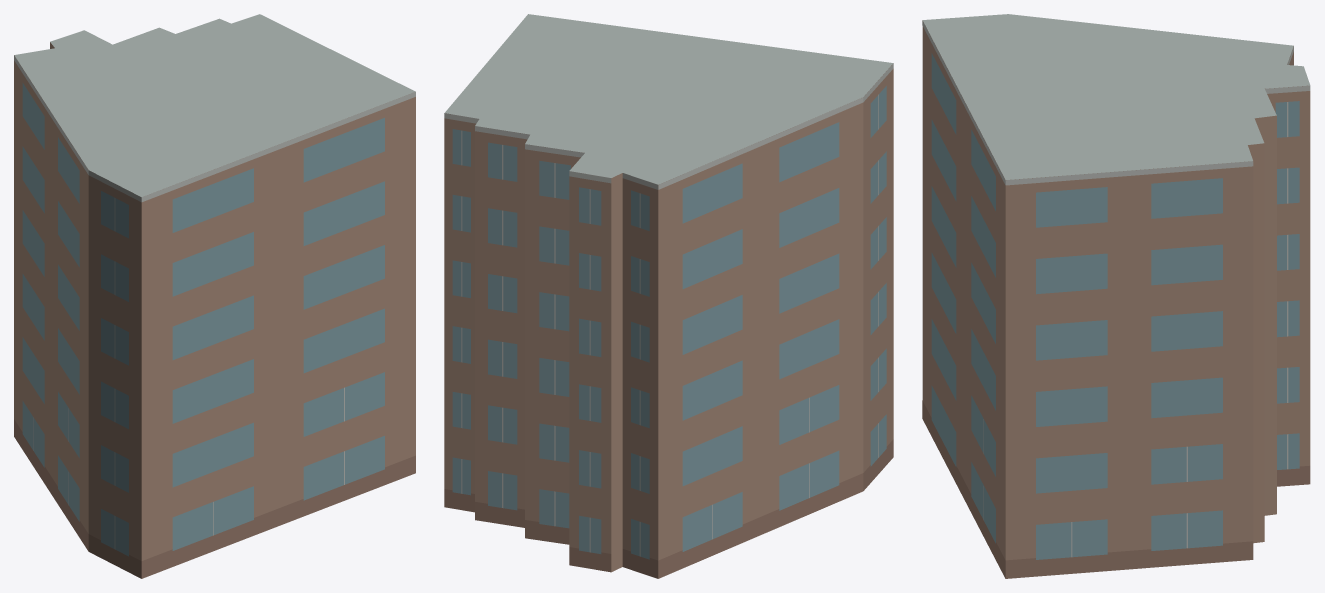
The model's file is survey-upis-32876749.glb.
3 views of the same model, side by side, from view 1: azimuth 30°, elevation 25°; view 2: azimuth 150°, elevation 25°; view 3: azimuth 270°, elevation 25° (orthographic). The views are drawn at different scales.
Visible parts, largest first — view 1: survey-upis-32876749.tmp; view 2: survey-upis-32876749.tmp; view 3: survey-upis-32876749.tmp.
Boxes of the visible parts, bbox=[...] form: survey-upis-32876749.tmp: bbox=[14, 14, 415, 578]; survey-upis-32876749.tmp: bbox=[444, 14, 893, 578]; survey-upis-32876749.tmp: bbox=[922, 14, 1310, 578].
Bounding box in the file's own units: 16.36 × 18.3 × 16.15.
